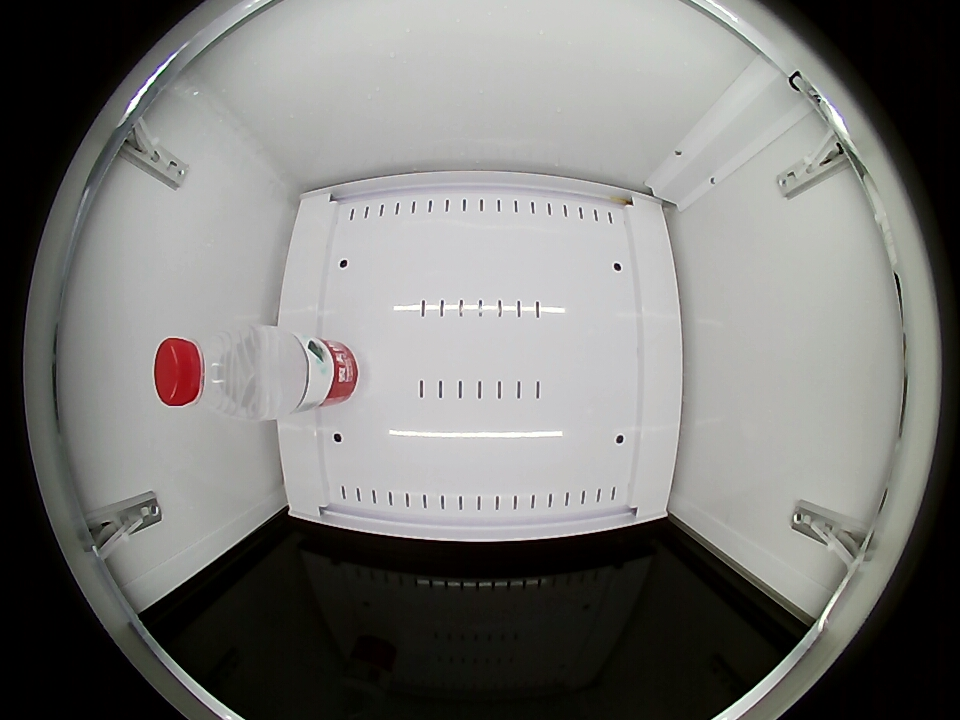nongfushanquan: (155, 328, 271, 419)
